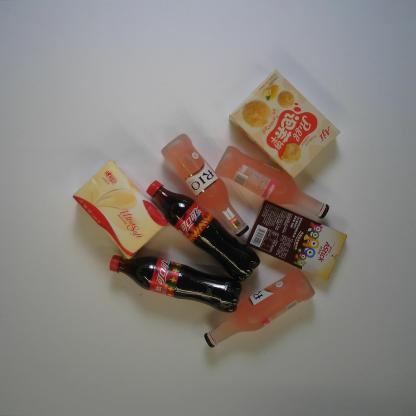Alcohol: (160, 133, 251, 238), (201, 267, 316, 348), (214, 143, 331, 222)
Dessert: (225, 67, 341, 182), (245, 198, 349, 284)
Drink: (145, 179, 261, 283), (107, 252, 244, 314)
Tissue: (72, 158, 168, 262)
